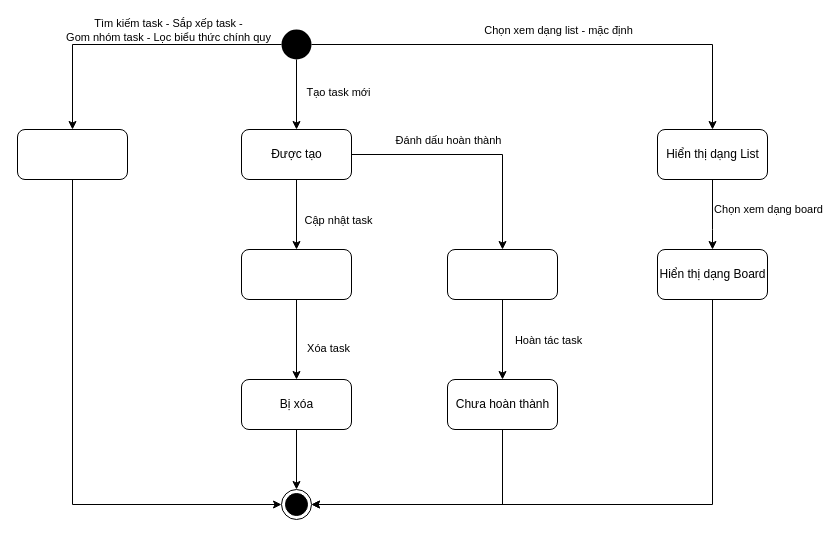
The diagram is 840 pixels wide and 537 high, and some of its shapes have lost their labels. The centre of each missing label's shape, as x and y in pixels:
Hiển thị kết quả: the point at 72,154
Hoàn thành: the point at 502,274
Được cập nhật: the point at 296,274
